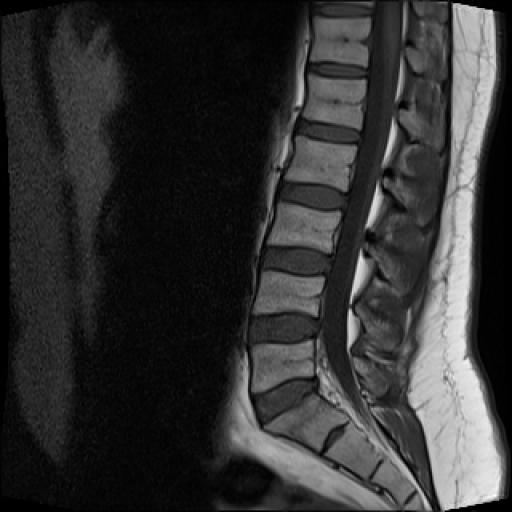L1: (302, 73, 366, 131)
L2: (282, 134, 358, 193)
L3: (265, 201, 343, 254)
L4: (252, 270, 326, 316)
L5: (251, 339, 315, 392)
S1: (263, 393, 348, 452)
